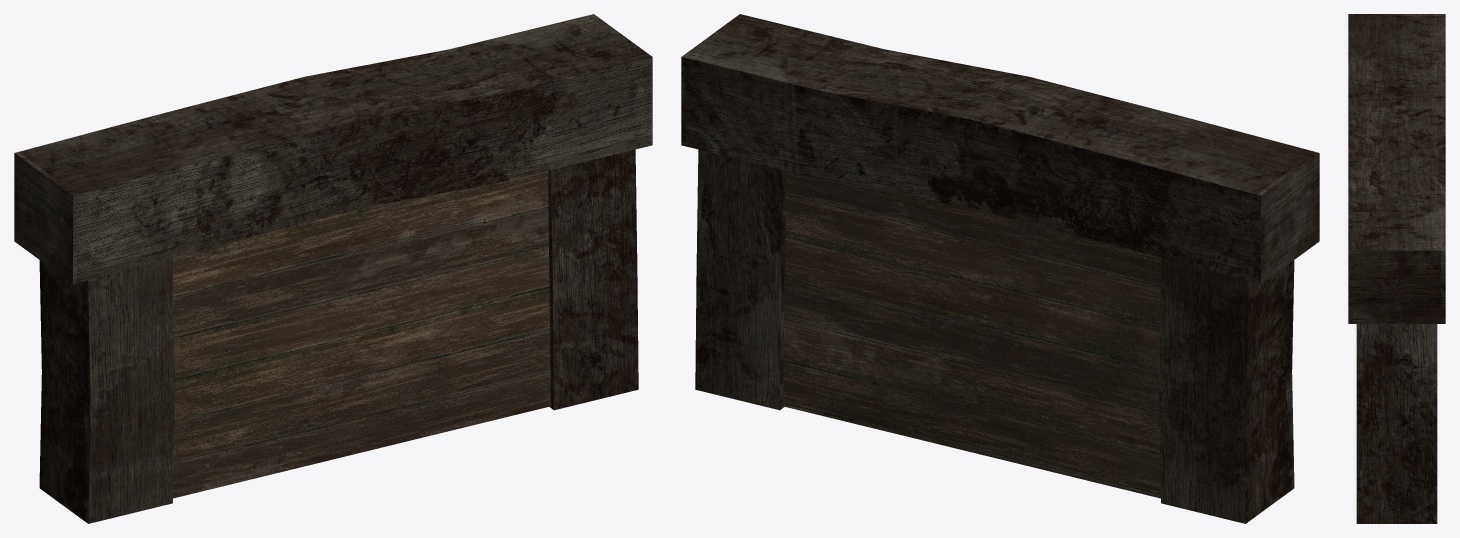
Rendered from ShortWoodWall3.fbx.
3 renders of one model, left to right at view 1: azimuth 30°, elevation 25°; view 2: azimuth 150°, elevation 25°; view 3: azimuth 270°, elevation 25°, orthographic. The views are drawn at different scales.
Visible parts, largest first — view 1: Wood Wall Short 2m; view 2: Wood Wall Short 2m; view 3: Wood Wall Short 2m.
Part boxes in pixels (box(x1,y1,x2,y2)): Wood Wall Short 2m: box(14, 14, 652, 523); Wood Wall Short 2m: box(681, 14, 1319, 523); Wood Wall Short 2m: box(1348, 14, 1445, 523).
Bounding box in the file's own units: 232 × 131 × 40.57.
